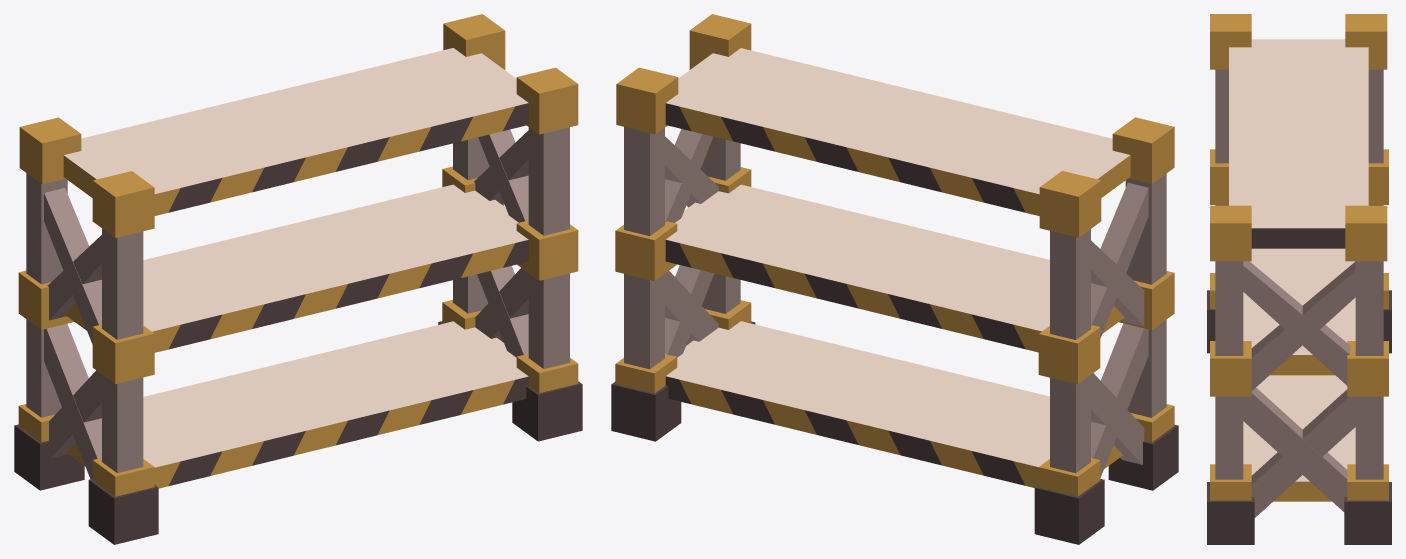
The model's file is Brown_Shelf.fbx.
3 views of the same model, side by side, from view 1: azimuth 30°, elevation 25°; view 2: azimuth 150°, elevation 25°; view 3: azimuth 270°, elevation 25° (orthographic). The views are drawn at different scales.
Parts seen in each view (by area): view 1: Brown_Shelf; view 2: Brown_Shelf; view 3: Brown_Shelf.
Boxes of the visible parts, x1=… form: Brown_Shelf: x1=14, y1=14, x2=582, y2=544; Brown_Shelf: x1=611, y1=14, x2=1178, y2=544; Brown_Shelf: x1=1207, y1=14, x2=1391, y2=544.
Bounding box in the file's own units: 179 × 127 × 66.16.
